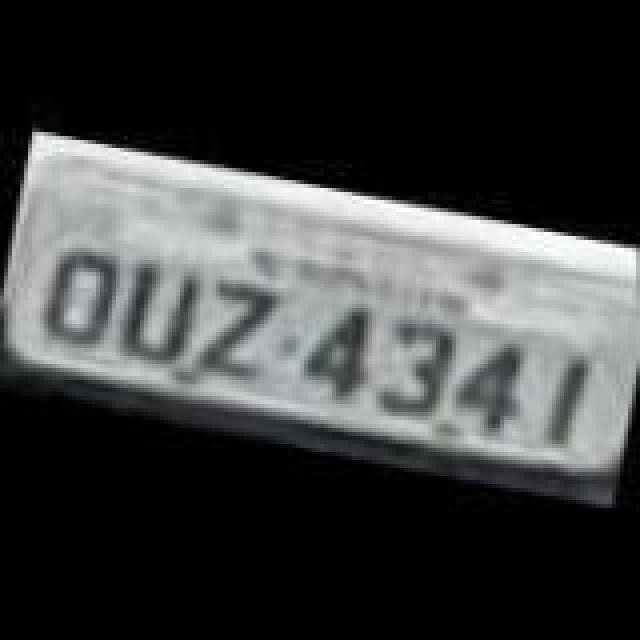1: (536, 348, 596, 452)
3: (372, 314, 452, 418)
4: (446, 332, 534, 440), (294, 296, 378, 408)
O: (34, 240, 126, 352)
U: (112, 252, 208, 376)
Z: (196, 274, 284, 386)
